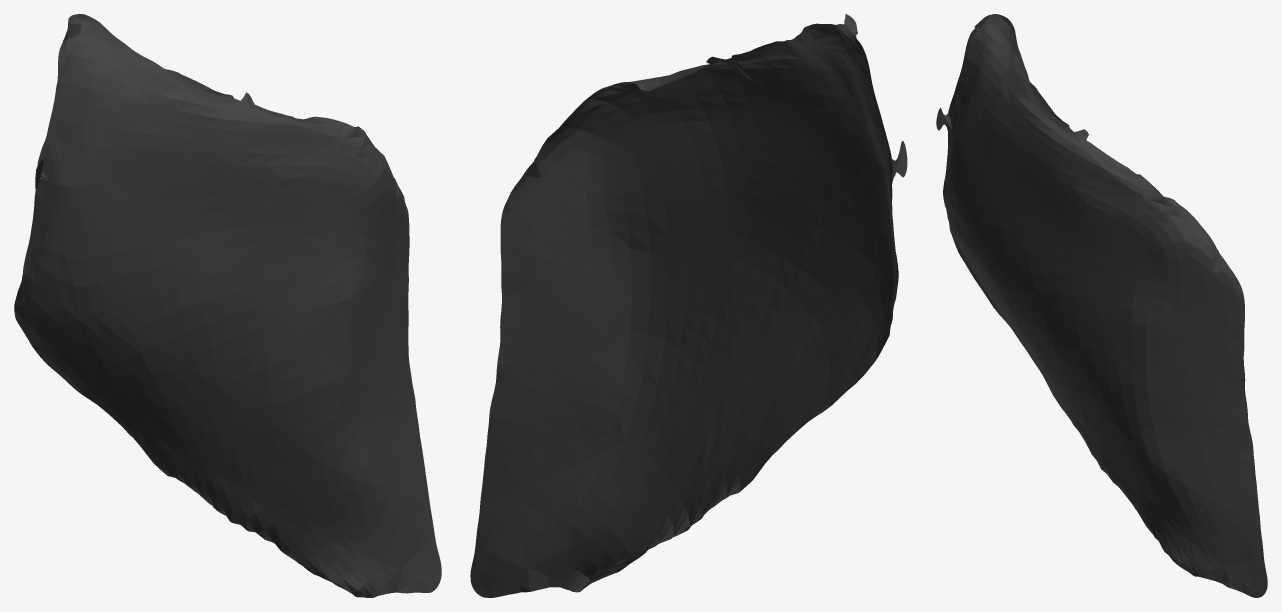
The model's file is Triceps_lateral.glb.
The picture shows the model from 3 angles, left to right: view 1: azimuth 30°, elevation 25°; view 2: azimuth 150°, elevation 25°; view 3: azimuth 330°, elevation 25°; orthographic projection. The views are drawn at different scales.
Visible parts, largest first — view 1: Triceps_lateral; view 2: Triceps_lateral; view 3: Triceps_lateral.
Boxes of the visible parts, x1,y1,x2,y2 form: Triceps_lateral: (14,14,441,597); Triceps_lateral: (470,14,907,597); Triceps_lateral: (936,14,1267,597).
Bounding box in the file's own units: 0.118 × 0.1758 × 0.0238.
Materials: 1 (1 with a texture image).
